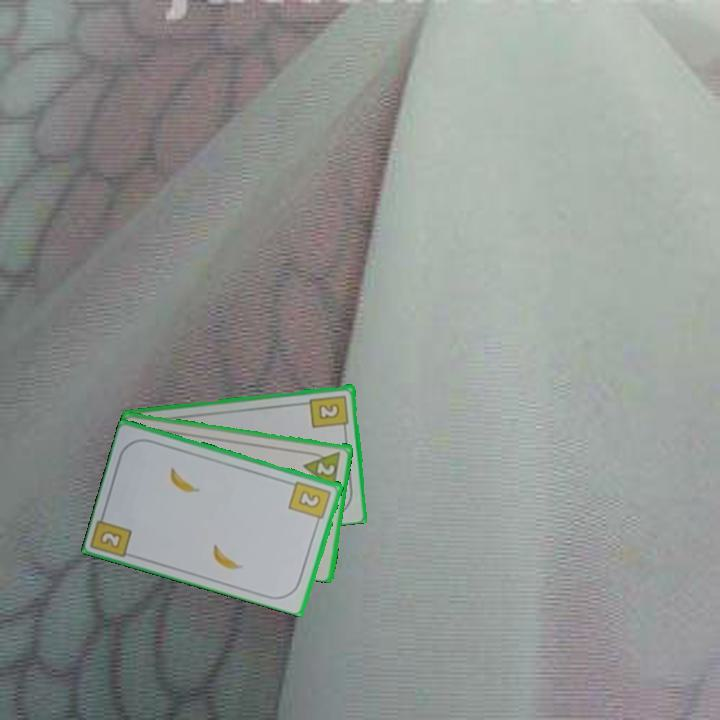2b: (286, 477, 334, 527), (307, 391, 352, 433), (96, 527, 125, 551)
2p: (313, 459, 338, 478)
